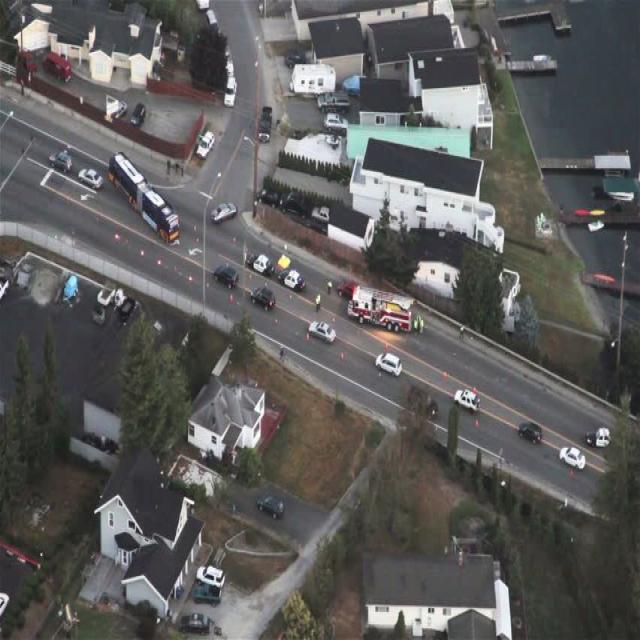traffic_incident: (210, 195, 237, 229)
